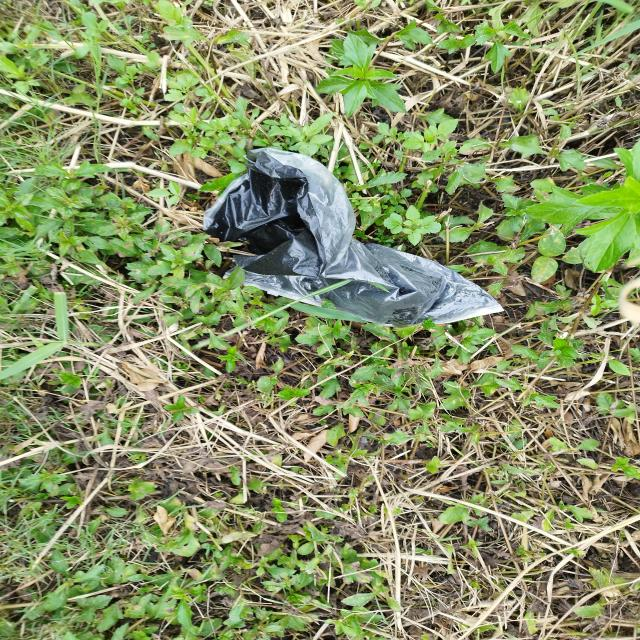bag: (203, 150, 502, 326)
